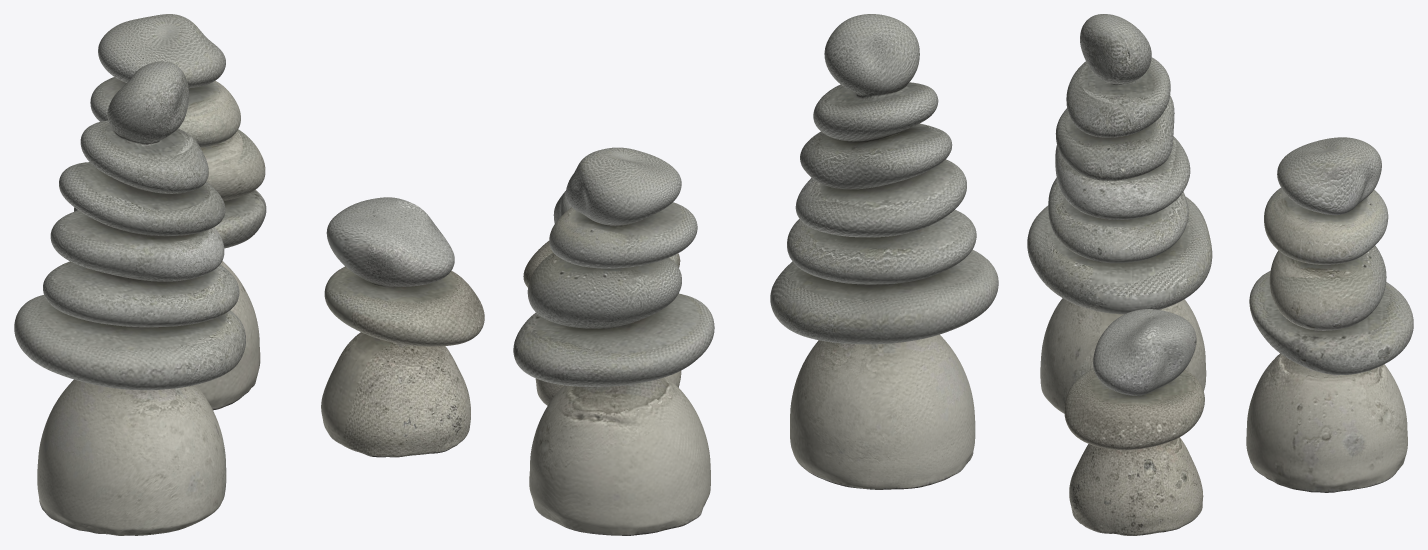
Rendered from dieshi2-v1.glb.
3 views of the same model, side by side, from view 1: azimuth 30°, elevation 25°; view 2: azimuth 150°, elevation 25°; view 3: azimuth 270°, elevation 25° (orthographic). The views are drawn at different scales.
Parts seen in each view (by area): view 1: tripo_node_c15ae811-3f21-4bb1-8c4a-0520e153cf0a; view 2: tripo_node_c15ae811-3f21-4bb1-8c4a-0520e153cf0a; view 3: tripo_node_c15ae811-3f21-4bb1-8c4a-0520e153cf0a.
Boxes of the visible parts, x1,y1,x2,y2 form: tripo_node_c15ae811-3f21-4bb1-8c4a-0520e153cf0a: [14, 14, 484, 535]; tripo_node_c15ae811-3f21-4bb1-8c4a-0520e153cf0a: [513, 14, 998, 535]; tripo_node_c15ae811-3f21-4bb1-8c4a-0520e153cf0a: [1027, 14, 1413, 535].
Size of the model in its own units: 0.9799 by 0.8995 by 0.8202.
1 material, 1 textured.
